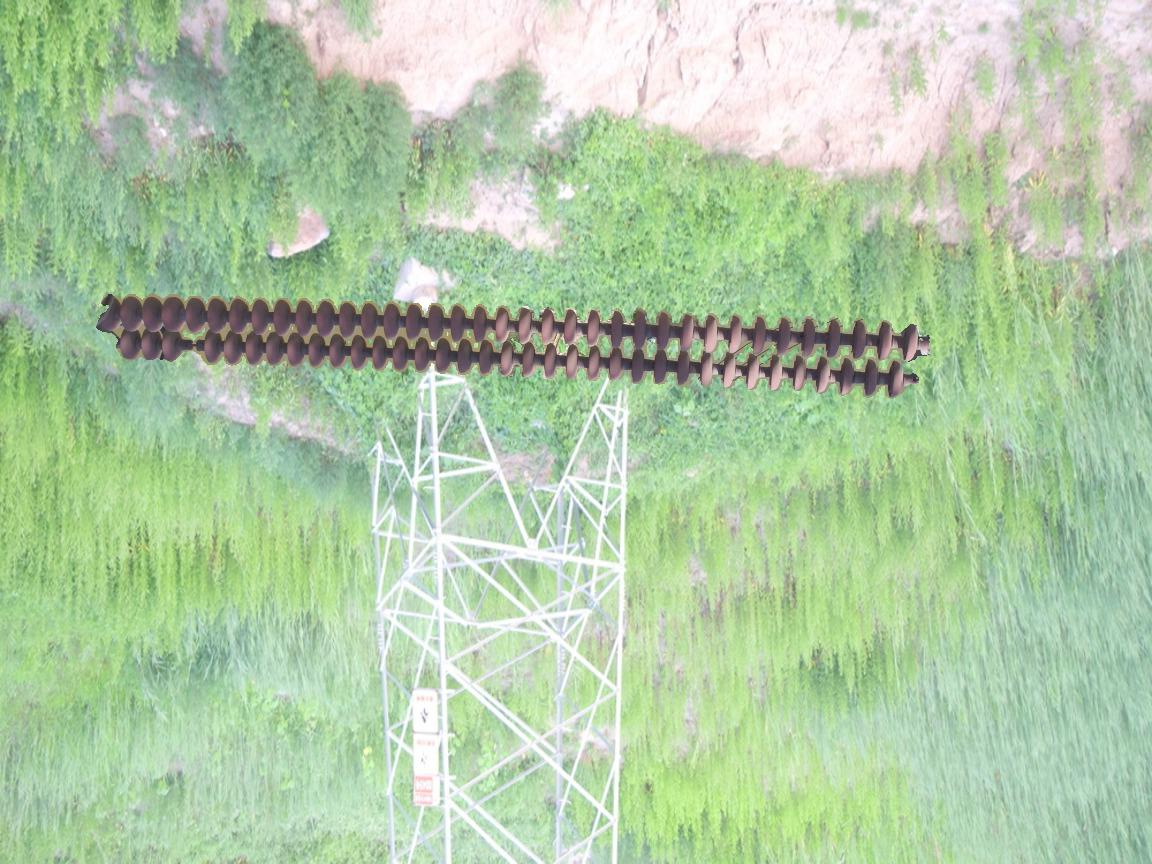insulator: (99, 289, 924, 402)
insulator_stringdrop: (157, 326, 224, 368)
